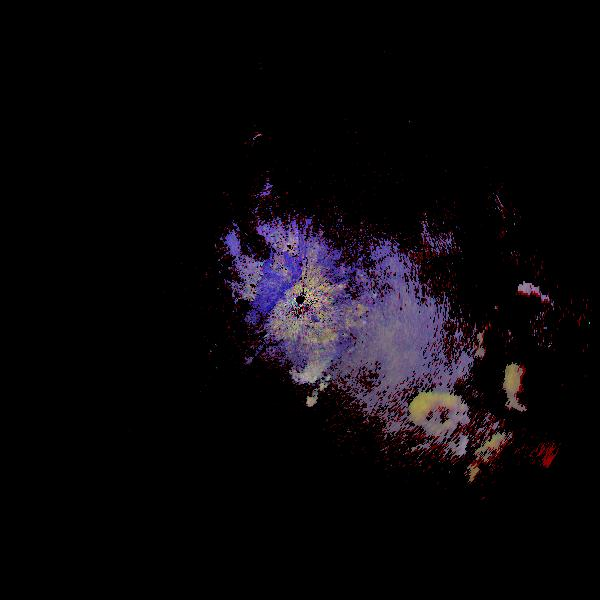roost: (450, 421, 567, 538), (381, 378, 492, 489), (493, 331, 600, 442)
